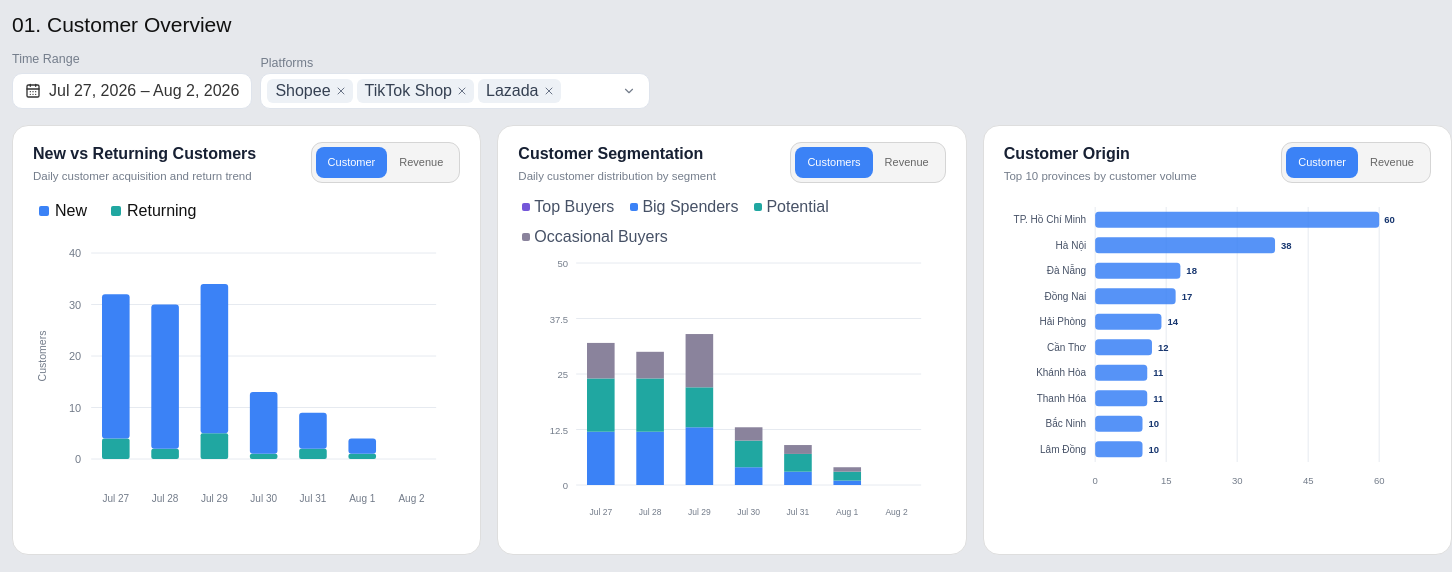
Test: daily customer segmentation chart › switches the same daily stacks from customer count to revenue
The width and height of the screenshot is (1452, 572).
Click the radio button labelled "Revenue" in the row of "Daily customer distribution by segment".
click(907, 162)  # box [873, 147, 941, 178]
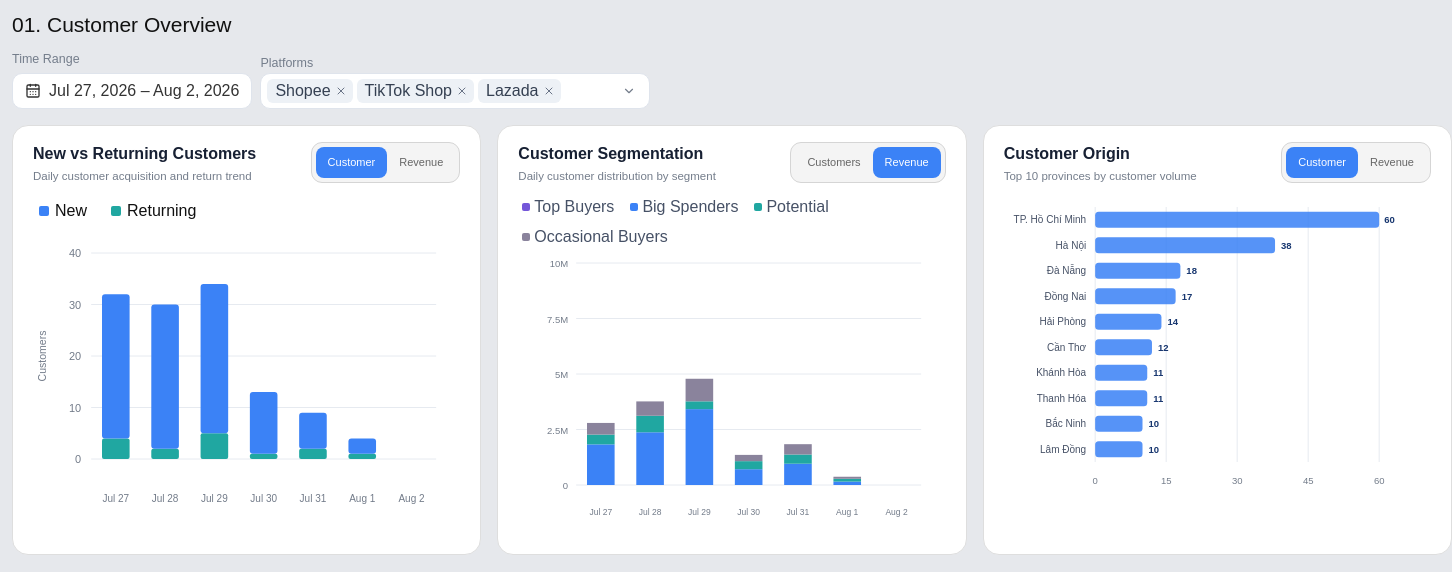
Check: the picture named "Daily customer segmentation by revenue" is shown, box [518, 255, 946, 525]
